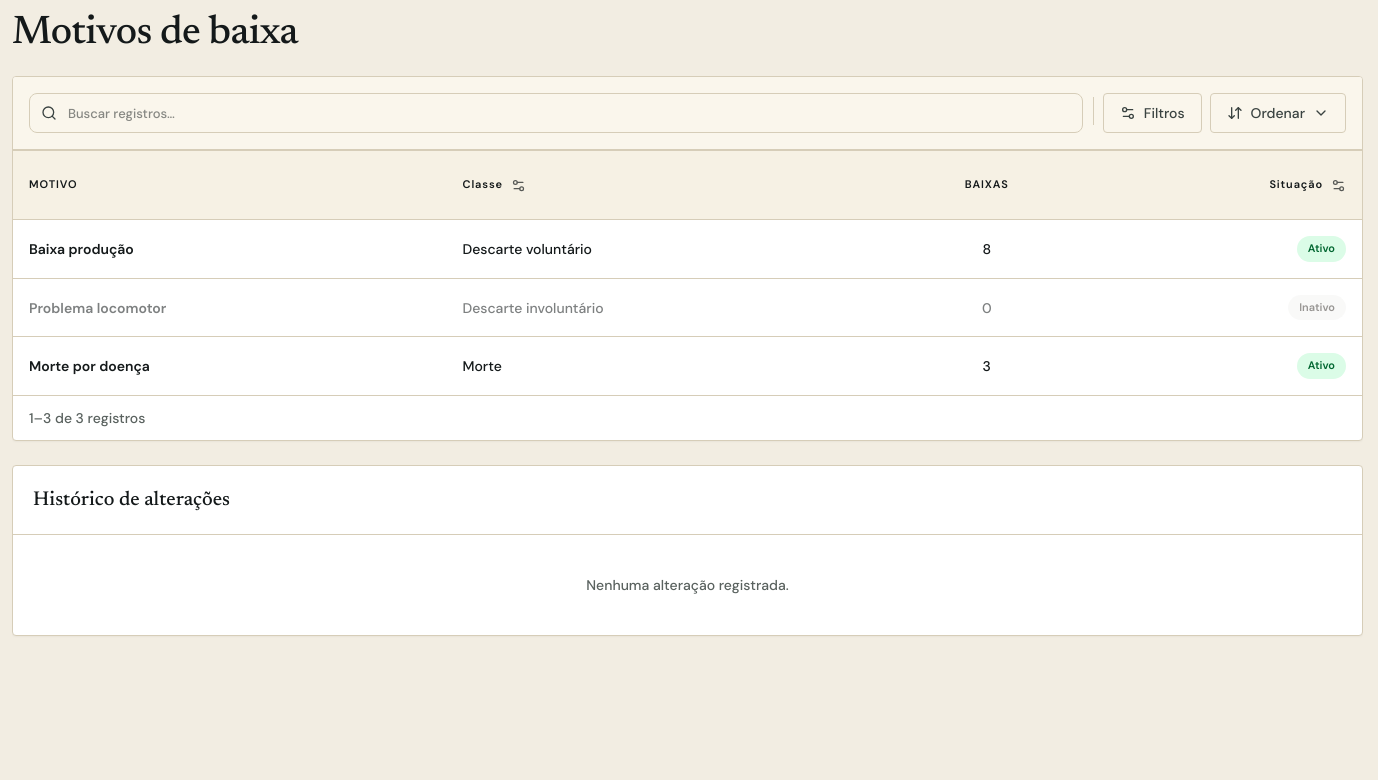
it: Cadastros do rebanho — permissão de leitura (K7) › busca motivos por nome ou classe sem acentos e sem nova consulta
In the search field named "Buscar motivos de baixa": coordinates (556, 113) left=29, top=93, right=1083, bottom=133, type "PRODUCAO"
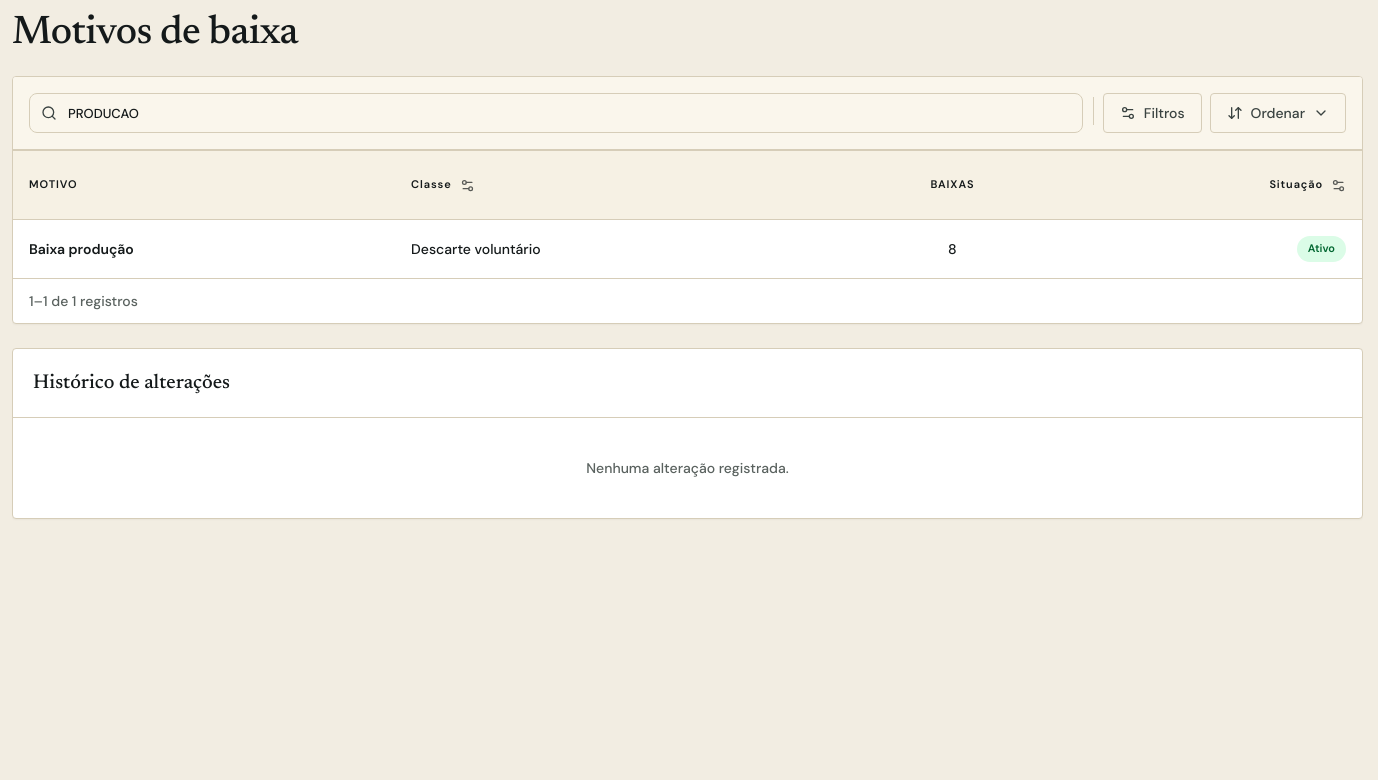
Expected: the text "Baixa produção" is shown, left=29, top=240, right=134, bottom=258
Now the text "Morte por doença" is gone
Replace the text in the search field named "Buscar motivos de baixa" with "morte": coordinates (556, 113) left=29, top=93, right=1083, bottom=133
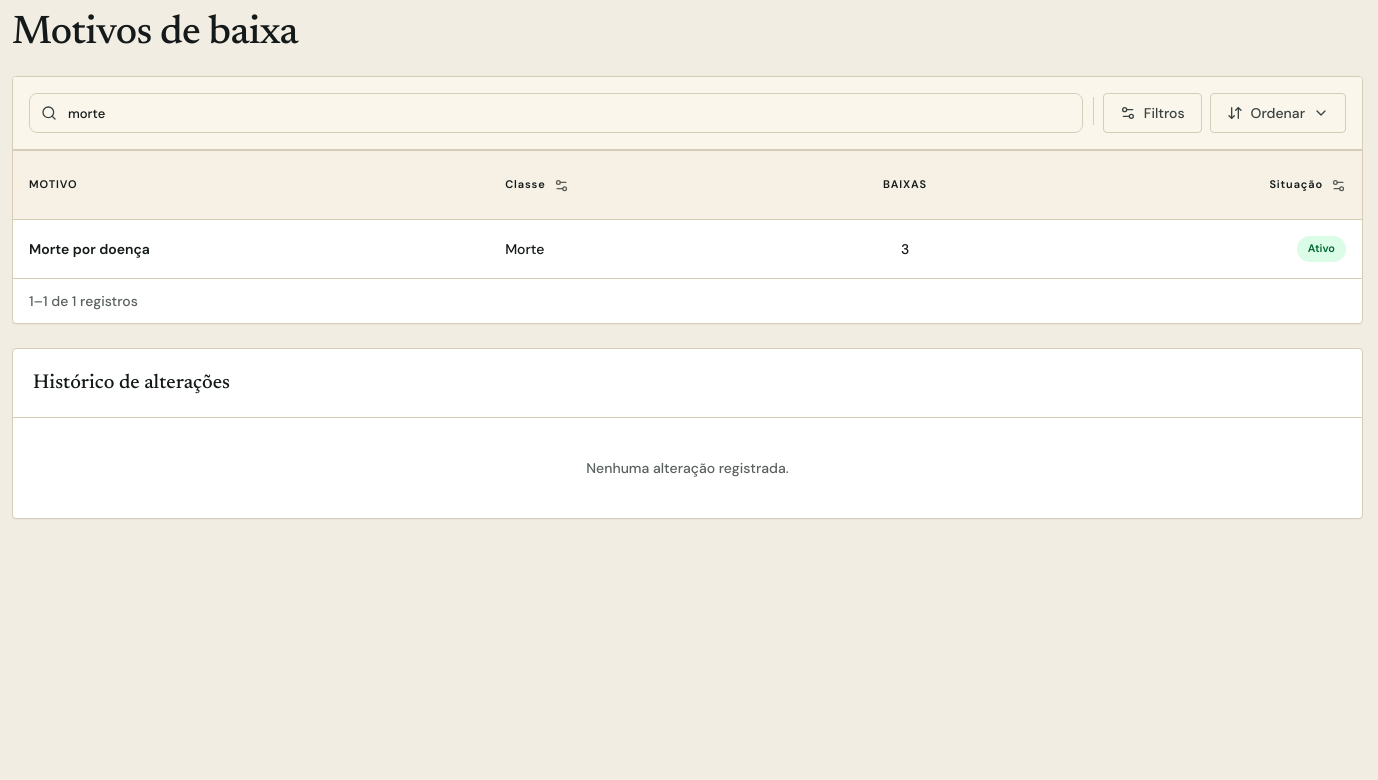
Now the text "Morte por doença" is shown, box left=29, top=240, right=150, bottom=258
Now the text "Baixa produção" is gone
